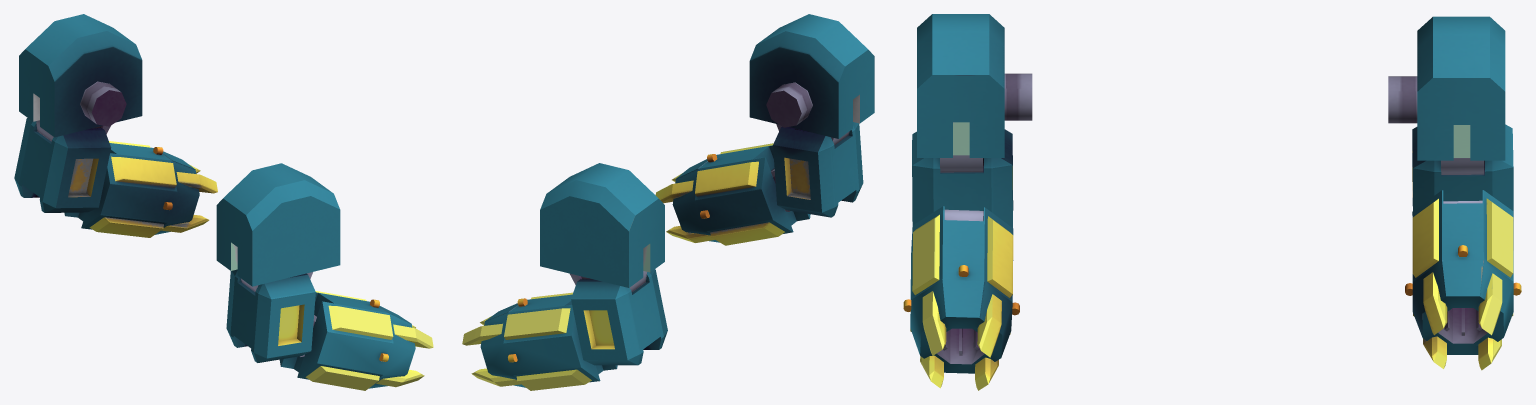
File: Player_Idle18.obj
3 views of the same model, side by side, from view 1: azimuth 30°, elevation 25°; view 2: azimuth 150°, elevation 25°; view 3: azimuth 270°, elevation 25° (orthographic). The views are drawn at different scales.
Parts seen in each view (by area): view 1: Object003, Object005, Object001, Object007, Object006, Object002; view 2: Object003, Object005, Object001, Object007, Object006, Object002; view 3: Object001, Object007, Object005, Object003, Object002, Object006.
Boxes of the visible parts, box(x1,y1,x2,y2) form: Object003: box(216, 163, 340, 286); Object005: box(19, 14, 142, 137); Object001: box(279, 291, 433, 390); Object007: box(64, 141, 217, 237); Object006: box(14, 118, 111, 212); Object002: box(226, 269, 315, 362); Object003: box(749, 14, 874, 138); Object005: box(540, 163, 664, 287); Object001: box(655, 143, 810, 245); Object007: box(462, 292, 617, 390); Object006: box(570, 269, 667, 365); Object002: box(773, 122, 863, 217); Object001: box(903, 206, 1019, 390); Object007: box(1405, 190, 1521, 370); Object005: box(1388, 16, 1505, 160); Object003: box(917, 14, 1032, 157); Object002: box(912, 129, 1013, 227); Object006: box(1412, 124, 1513, 219).
Bounding box in the file's own units: 37.06 × 43.21 × 83.7.
1 material, 1 textured.
